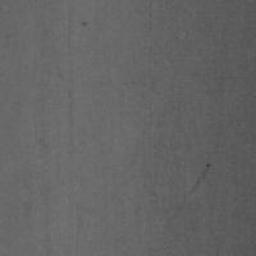Inclusion: (166, 160, 212, 232), (81, 20, 88, 27)
